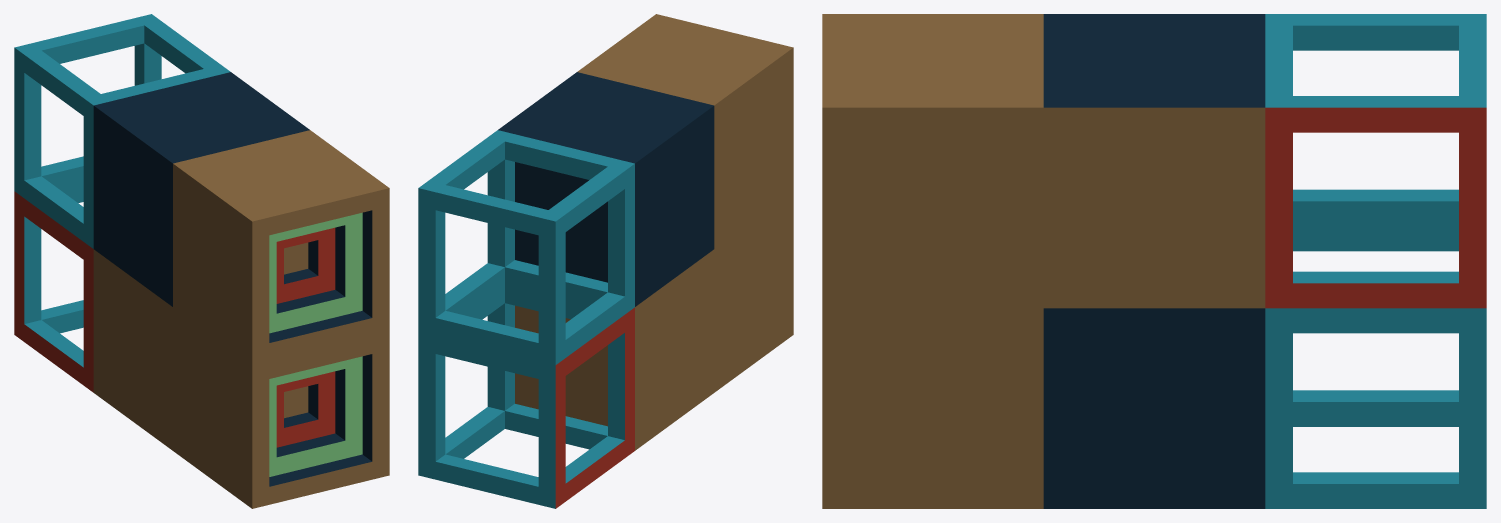
Rendered from Jellyfish_Fish.fbx.
3 views of the same model, side by side, from view 1: azimuth 30°, elevation 25°; view 2: azimuth 150°, elevation 25°; view 3: azimuth 270°, elevation 25° (orthographic). The views are drawn at different scales.
Parts seen in each view (by area): view 1: Box_S_cl5_0055, Box_S_cl5_0056, Box_cl4_001618, Box_H_cl2_0018, Box_cl4_001619, Box_H_cl2_0019; view 2: Box_H_cl2_0018, Box_cl4_001618, Box_H_cl2_0019, Box_S_cl5_0055, Box_cl4_001619, Box_S_cl5_0056; view 3: Box_cl4_001618, Box_S_cl5_0055, Box_cl4_001619, Box_S_cl5_0056, Box_H_cl2_0018, Box_H_cl2_0019.
Boxes of the visible parts, box(x1,y1,x2,y2) form: Box_S_cl5_0055: box(173, 130, 389, 365); Box_S_cl5_0056: box(173, 307, 389, 508); Box_cl4_001618: box(93, 72, 309, 306); Box_H_cl2_0018: box(14, 14, 230, 248); Box_cl4_001619: box(93, 249, 172, 450); Box_H_cl2_0019: box(14, 184, 93, 392); Box_H_cl2_0018: box(418, 130, 634, 365); Box_cl4_001618: box(498, 72, 714, 306); Box_H_cl2_0019: box(418, 285, 634, 508); Box_S_cl5_0055: box(577, 14, 793, 248); Box_cl4_001619: box(515, 249, 714, 450); Box_S_cl5_0056: box(714, 191, 793, 392); Box_cl4_001618: box(1043, 14, 1265, 308); Box_S_cl5_0055: box(822, 14, 1043, 308); Box_cl4_001619: box(1043, 308, 1265, 508); Box_S_cl5_0056: box(822, 308, 1043, 508); Box_H_cl2_0018: box(1265, 14, 1486, 308); Box_H_cl2_0019: box(1265, 226, 1486, 508).
Bounding box in the file's own units: 10 × 20 × 30.
